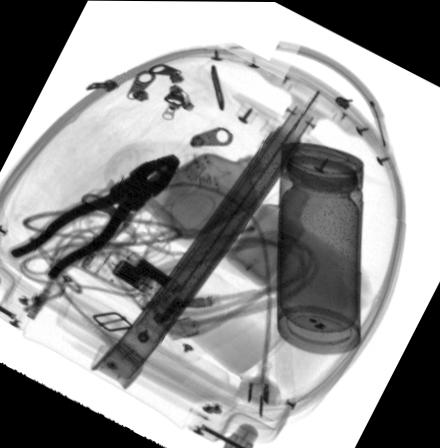Pliers: (5, 154, 178, 285)
